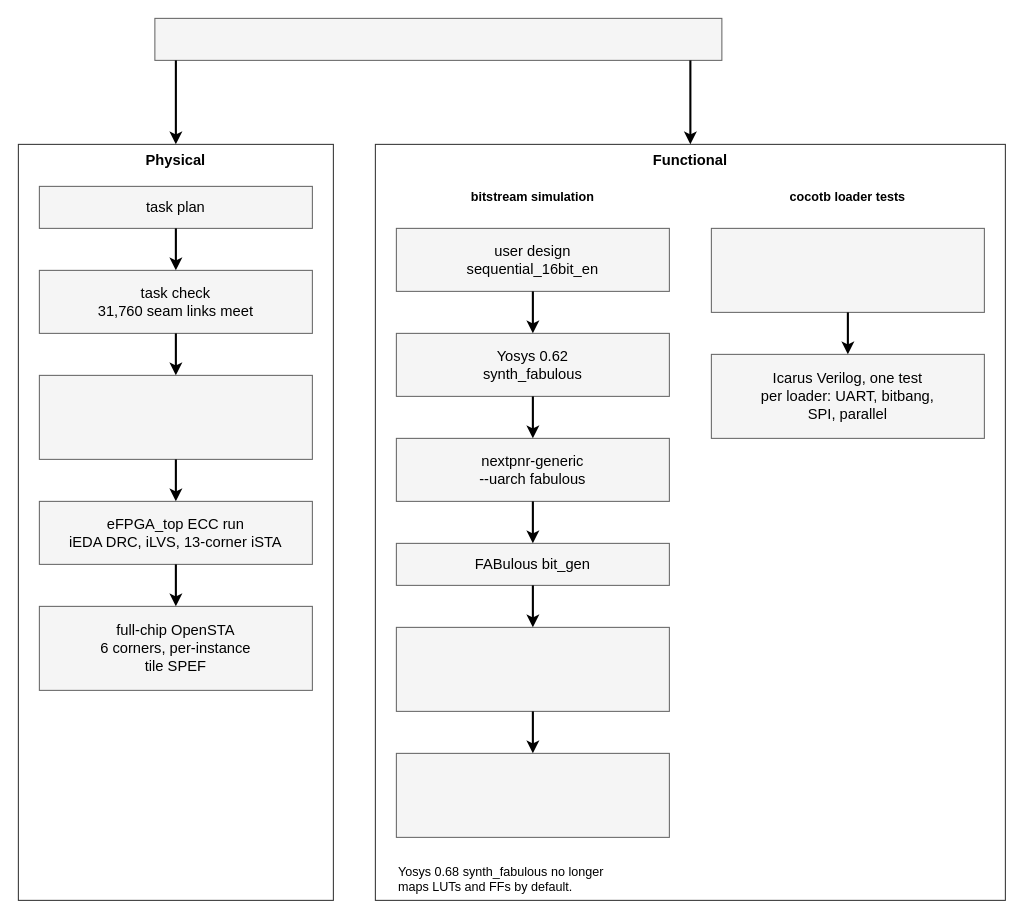
The diagram is 1024 pixels wide and 919 high, and some of its shapes have lost their labels. Each missing label, with the centre of its shape:
"cocotb testbench Test/config/ test_config_frontend.py" belongs at point (847, 269).
"compare all 40 IO bits with the reference design: pass, 100 cycles" belongs at point (532, 794).
"Icarus Verilog simulation of eFPGA_top RTL, parallel loader" belongs at point (532, 668).
"per-tile ECC, 12 tile types synthesis, P&R, iEDA DRC, iLVS, 13-corner iSTA" belongs at point (175, 416).
"RTL: Fabric/, fabrics/nobram/, Tile/" belongs at point (438, 38).
